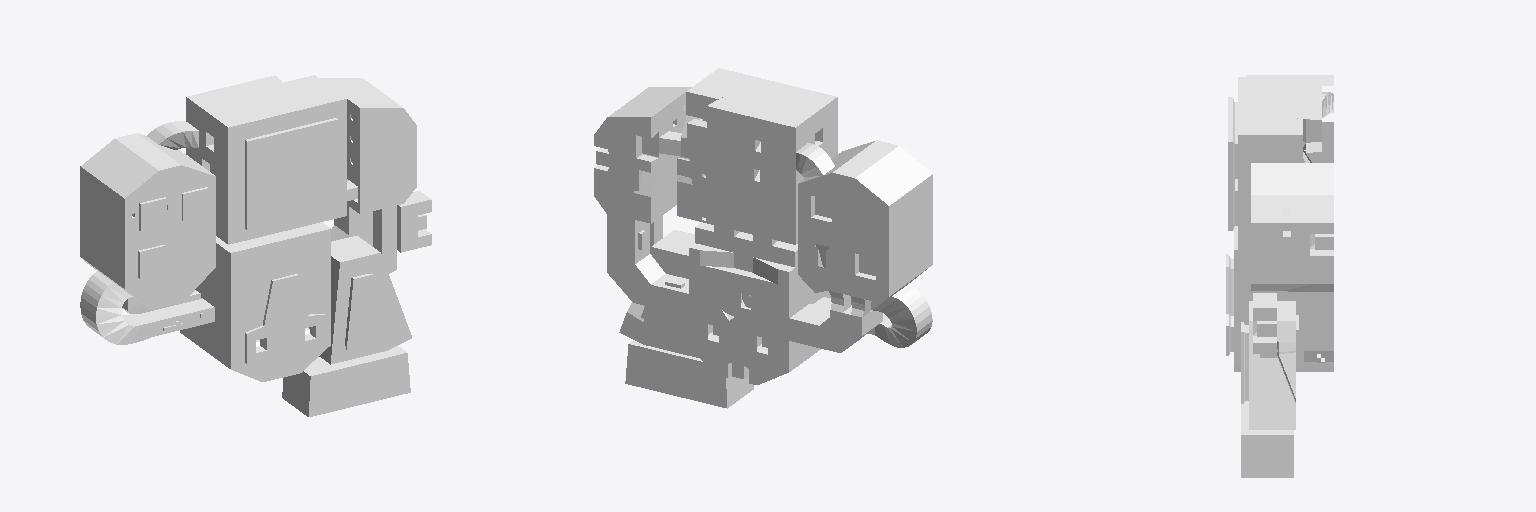
The model's file is chillout_Lightmap.obj.
3 renders of one model, left to right at view 1: azimuth 30°, elevation 25°; view 2: azimuth 150°, elevation 25°; view 3: azimuth 270°, elevation 25°, orthographic.
Visible parts, largest first — view 1: chillout_Lightmap_2, chillout_Lightmap_0, chillout_Lightmap_4, chillout_Lightmap_5, chillout_Lightmap_6, chillout_Lightmap_3, chillout_Lightmap_8, chillout_Lightmap_1; view 2: chillout_Lightmap_1, chillout_Lightmap_2, chillout_Lightmap_0, chillout_Lightmap_5, chillout_Lightmap_4, chillout_Lightmap_6, chillout_Lightmap_3, chillout_Lightmap_8; view 3: chillout_Lightmap_6, chillout_Lightmap_0, chillout_Lightmap_5, chillout_Lightmap_4, chillout_Lightmap_1, chillout_Lightmap_2.
Boxes of the visible parts, x1,y1,x2,y2 form: chillout_Lightmap_2: [80, 133, 215, 344]; chillout_Lightmap_0: [186, 75, 346, 244]; chillout_Lightmap_4: [180, 222, 330, 381]; chillout_Lightmap_5: [282, 236, 411, 416]; chillout_Lightmap_6: [320, 78, 431, 273]; chillout_Lightmap_3: [93, 271, 214, 342]; chillout_Lightmap_8: [147, 121, 198, 149]; chillout_Lightmap_1: [331, 205, 372, 246]; chillout_Lightmap_1: [594, 117, 861, 384]; chillout_Lightmap_2: [790, 140, 932, 350]; chillout_Lightmap_0: [650, 68, 837, 247]; chillout_Lightmap_5: [619, 230, 753, 408]; chillout_Lightmap_4: [689, 222, 830, 378]; chillout_Lightmap_6: [594, 87, 691, 243]; chillout_Lightmap_3: [867, 285, 916, 347]; chillout_Lightmap_8: [796, 143, 834, 180]; chillout_Lightmap_6: [1251, 163, 1333, 357]; chillout_Lightmap_0: [1228, 77, 1321, 251]; chillout_Lightmap_5: [1241, 301, 1295, 477]; chillout_Lightmap_4: [1226, 226, 1333, 371]; chillout_Lightmap_1: [1304, 292, 1333, 362]; chillout_Lightmap_2: [1246, 75, 1333, 162].
Bounding box in the file's own units: 2305 × 2114 × 669.